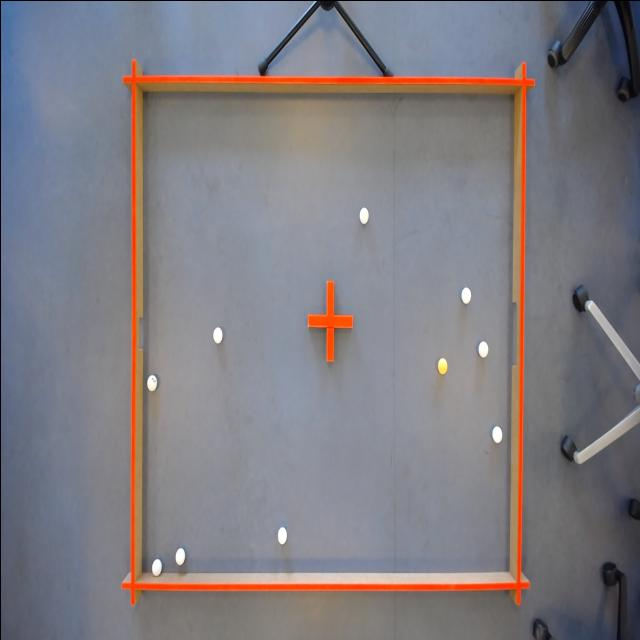cross: (306, 277, 355, 362)
orange_ball: (436, 353, 448, 377)
white_ball: (356, 202, 371, 226), (148, 554, 162, 578), (210, 322, 223, 346), (490, 421, 502, 445), (460, 283, 472, 306), (144, 371, 156, 394), (476, 336, 488, 359), (173, 544, 185, 566), (276, 526, 287, 546)
